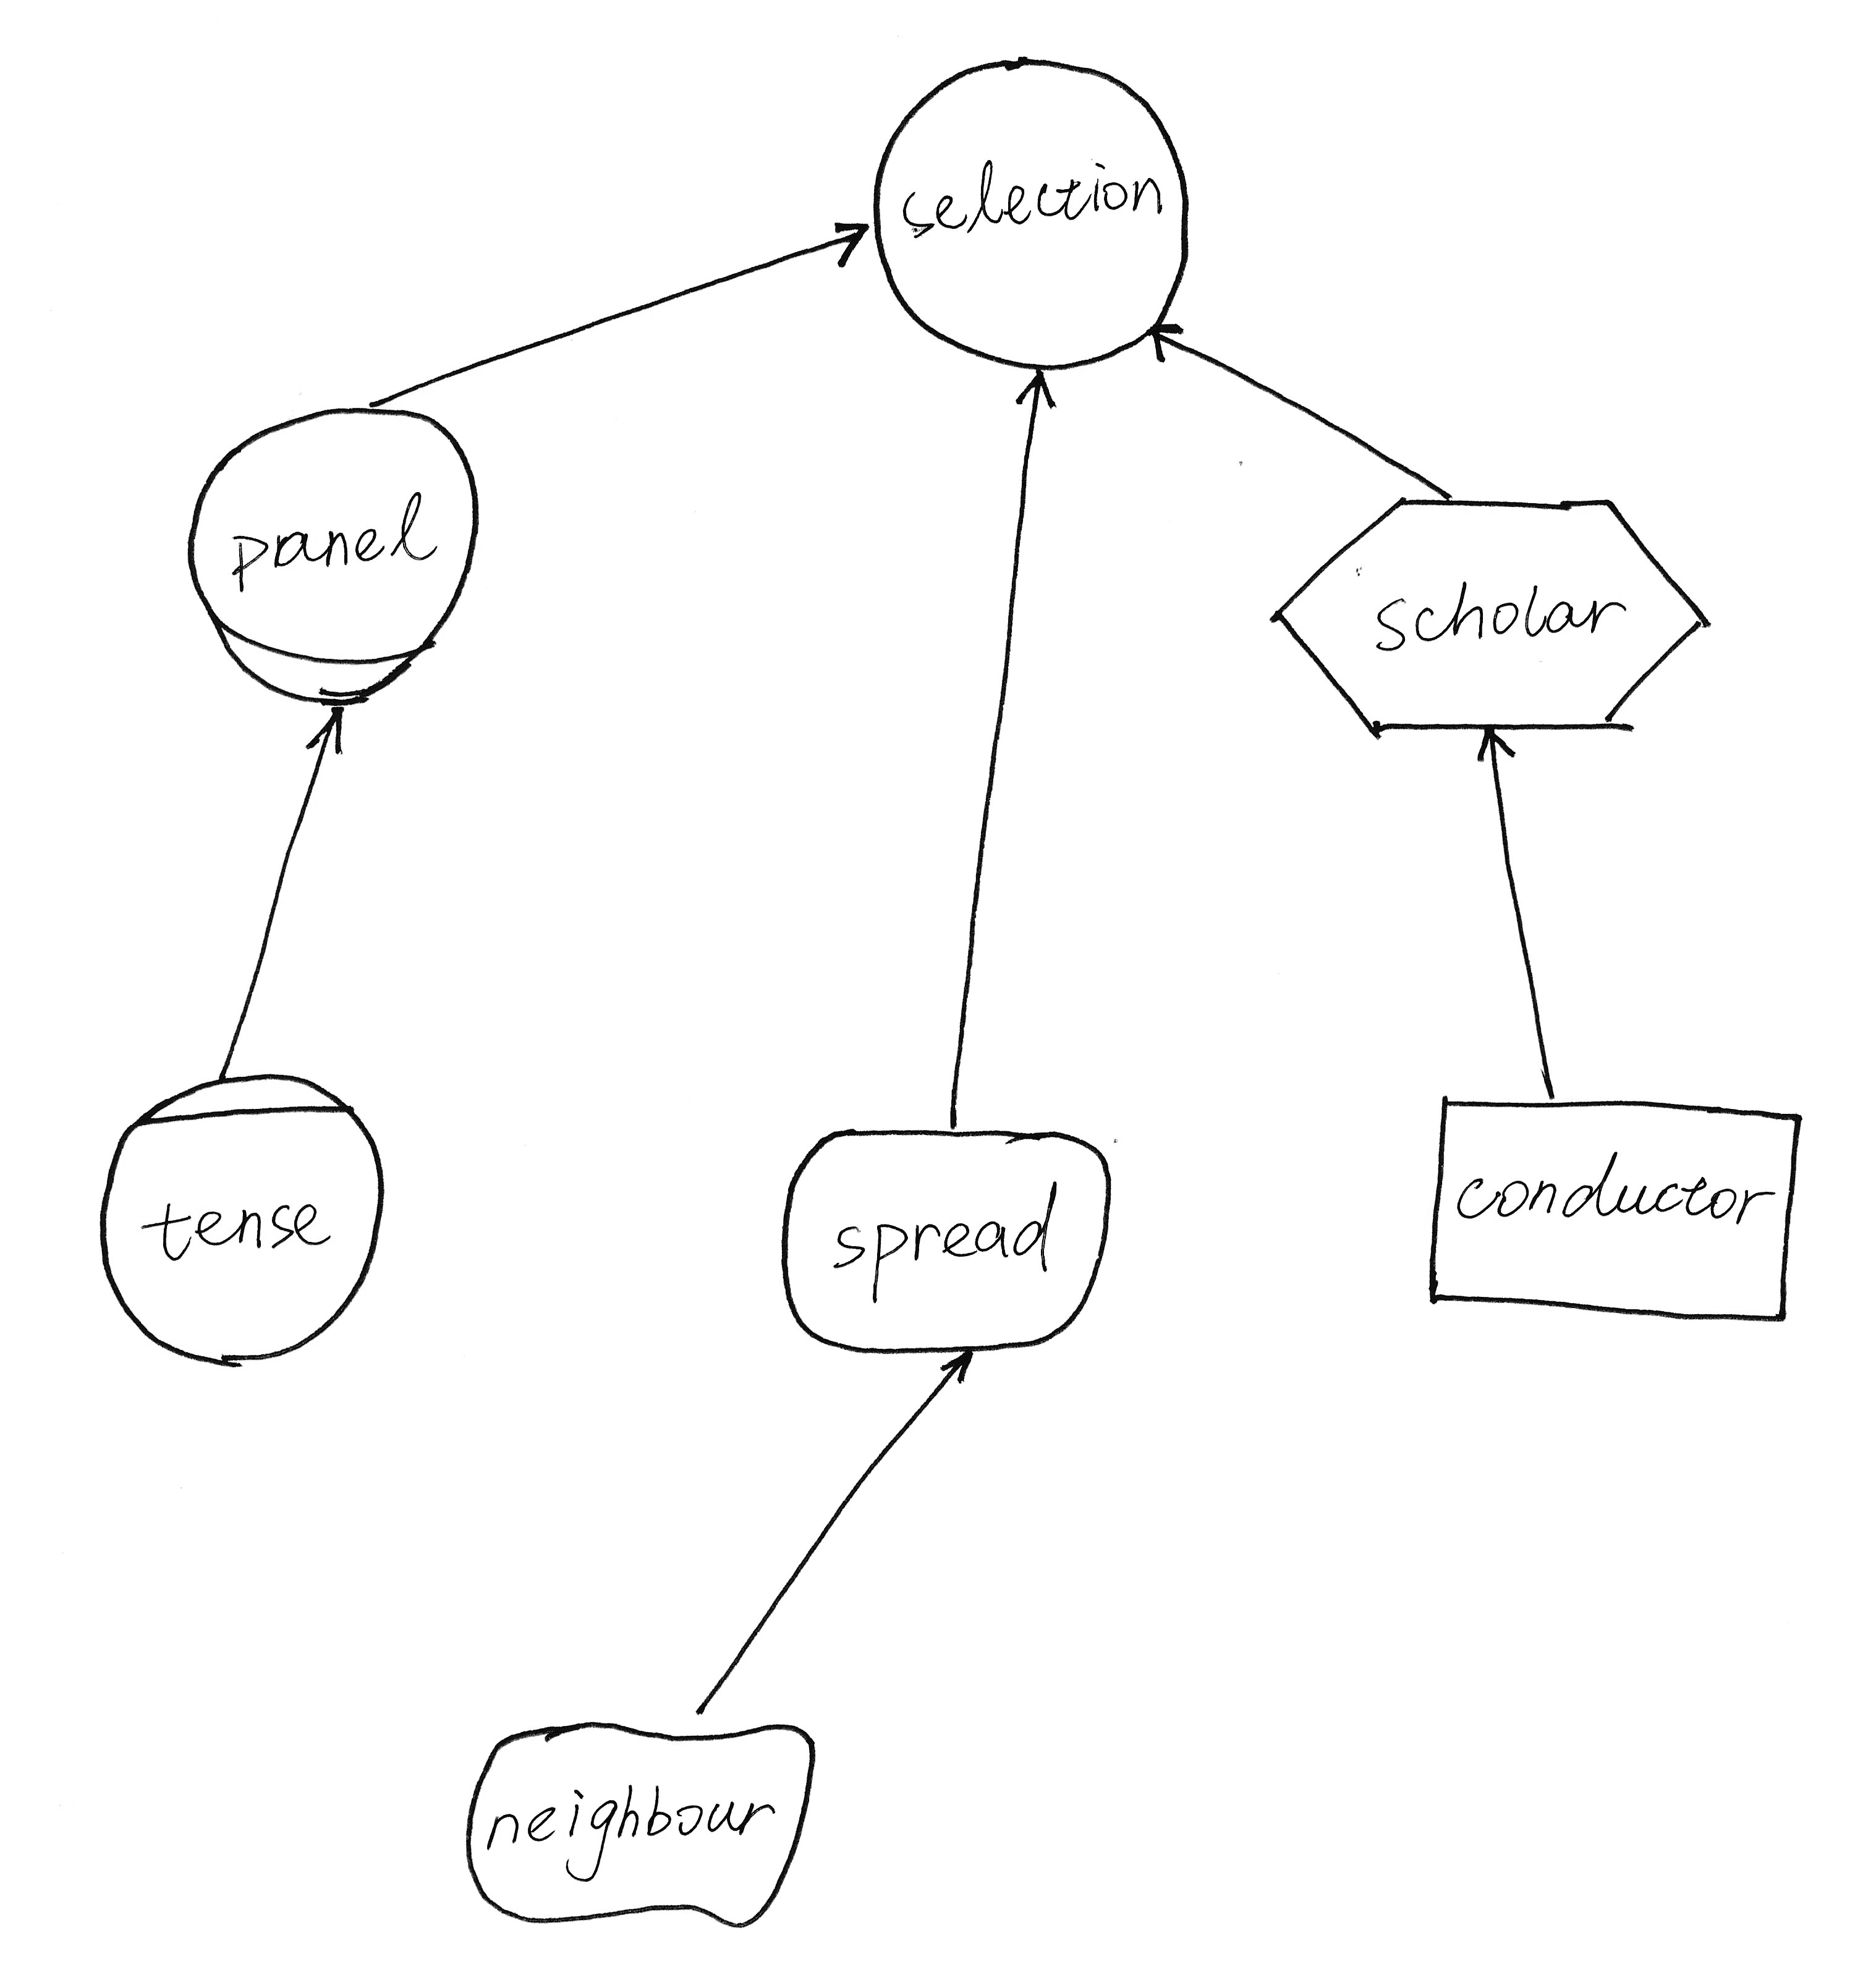actor: (857, 41, 1208, 386)
agent: (81, 1055, 400, 1374)
arrow: (291, 679, 367, 769), (816, 198, 887, 279), (924, 1330, 1003, 1399), (1005, 348, 1070, 427), (1460, 713, 1529, 785), (1137, 309, 1202, 377)
goal: (762, 1111, 1132, 1369)
quality: (448, 1708, 832, 1939)
resource: (1412, 1080, 1820, 1342)
role: (171, 388, 499, 714)
task: (1262, 483, 1728, 750)
